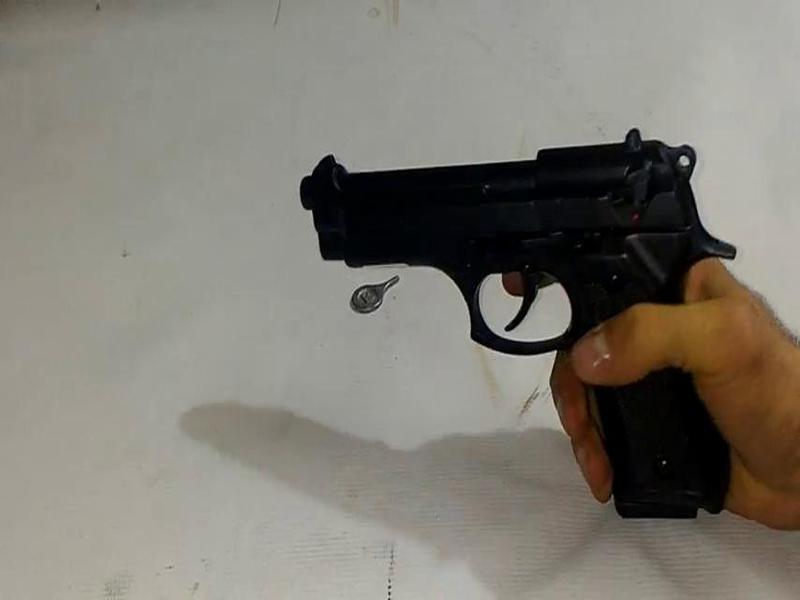Pistola: (255, 129, 747, 531)
